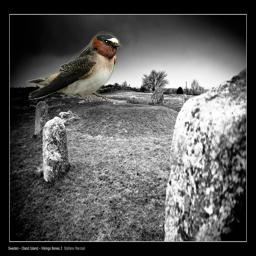Swallow: (26, 31, 124, 103)
